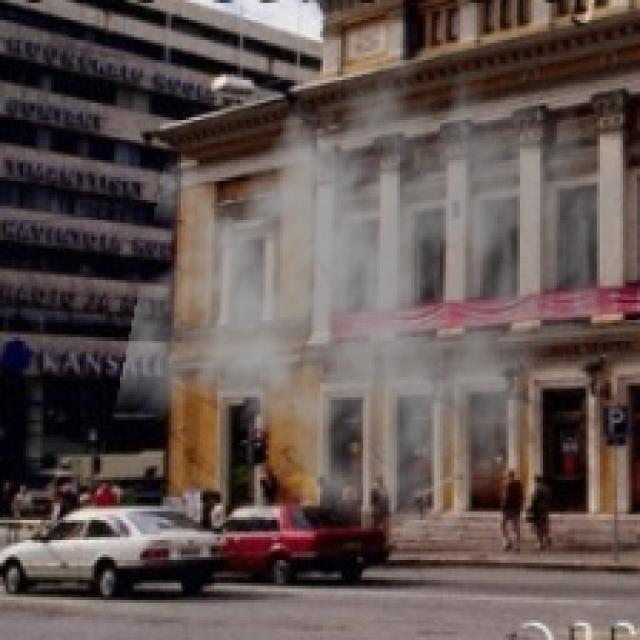smoke: (115, 23, 634, 546)
